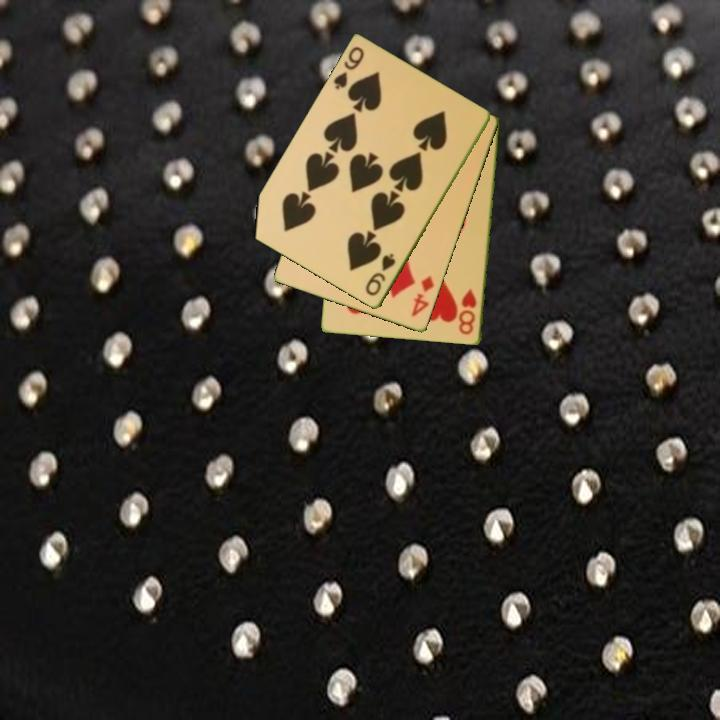4d: (408, 272, 437, 320)
8h: (456, 286, 480, 338)
9s: (330, 43, 367, 93), (362, 250, 399, 299)
